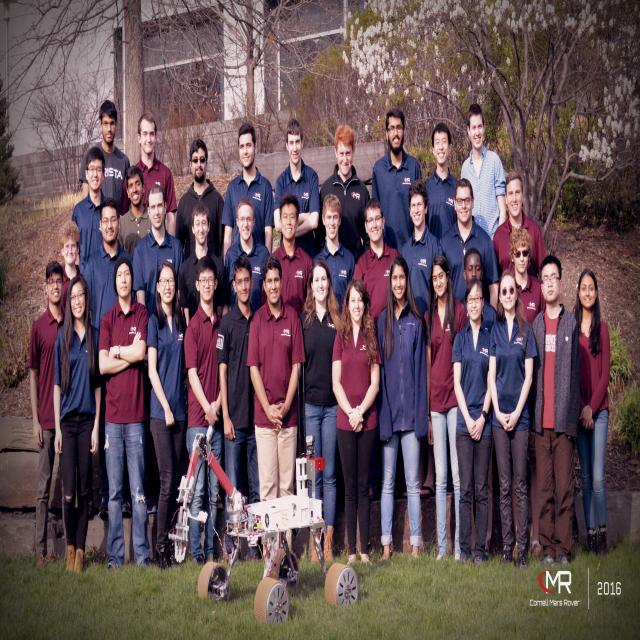body: (96, 252, 158, 574), (245, 253, 307, 574), (81, 196, 138, 520), (131, 183, 186, 514), (527, 253, 581, 573), (374, 253, 429, 566), (214, 252, 265, 566), (316, 122, 374, 398), (52, 273, 103, 582), (295, 256, 345, 568), (331, 275, 384, 569), (488, 268, 538, 572), (421, 252, 468, 567), (183, 253, 228, 572), (146, 261, 188, 570), (270, 193, 313, 490), (27, 259, 67, 570), (451, 277, 494, 566), (572, 268, 611, 556), (436, 178, 501, 314), (591, 393, 640, 558), (351, 196, 409, 335), (220, 122, 274, 270), (371, 107, 423, 258), (272, 117, 321, 259), (460, 102, 507, 242), (173, 138, 224, 261), (178, 200, 226, 330), (492, 170, 547, 281), (79, 99, 131, 216), (222, 196, 272, 316), (132, 114, 178, 242), (401, 179, 442, 318), (312, 192, 356, 316), (71, 145, 112, 276), (422, 120, 460, 242), (507, 225, 547, 328), (58, 220, 93, 328), (458, 247, 498, 335), (117, 165, 152, 257)
